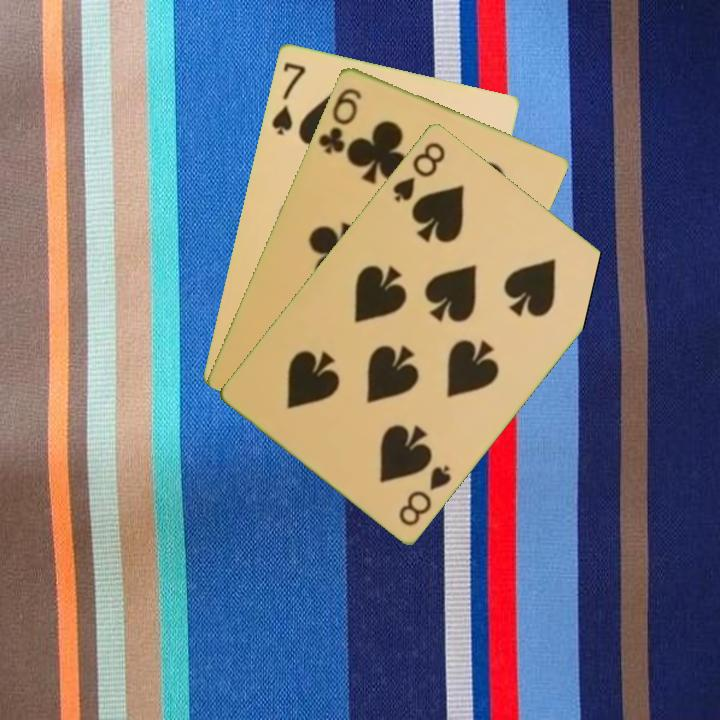6c: (314, 84, 365, 157)
7s: (267, 58, 308, 138)
8s: (395, 460, 455, 529), (389, 138, 449, 205)
